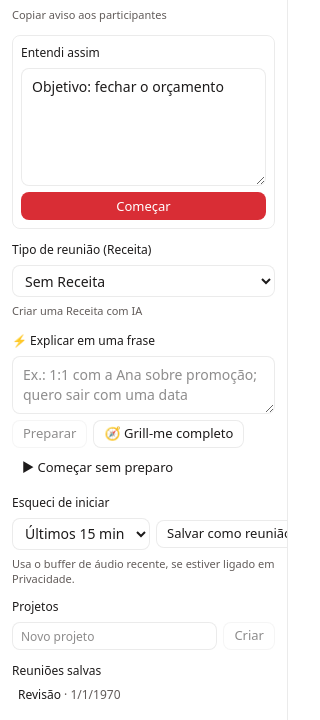
Scenario: meeting panel › a saved meeting shows the user's own speech numbers, privately
This screenshot has width=320, height=720.
(page scrolled)
Step 1. Click the button "Revisão · 1/1/1970" → (39, 695), box [12, 682, 275, 708]
(page scrolled)
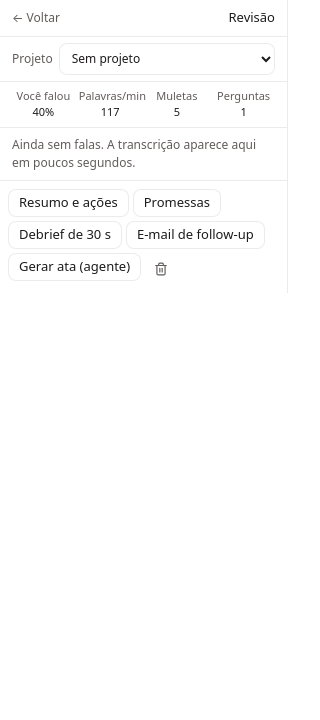
Expected: the text "40%" is shown, [32, 104, 54, 119]
Expected: the text "117" is shown, [101, 104, 120, 119]
